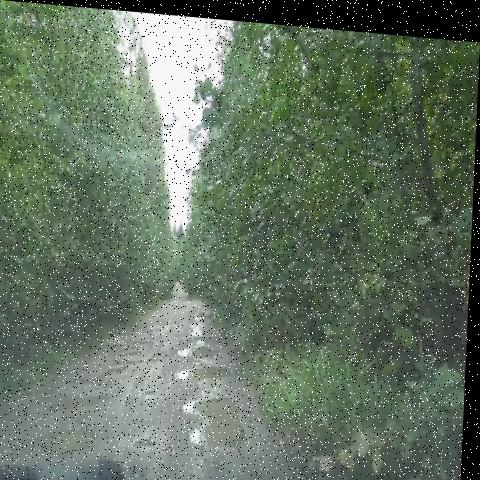pothole: (181, 382, 257, 455), (25, 411, 103, 459), (173, 349, 238, 392), (171, 325, 229, 369), (52, 385, 113, 419), (188, 295, 218, 334), (138, 370, 166, 409), (130, 426, 167, 454), (143, 312, 177, 340), (100, 359, 136, 385), (123, 336, 150, 362), (132, 347, 162, 369)
